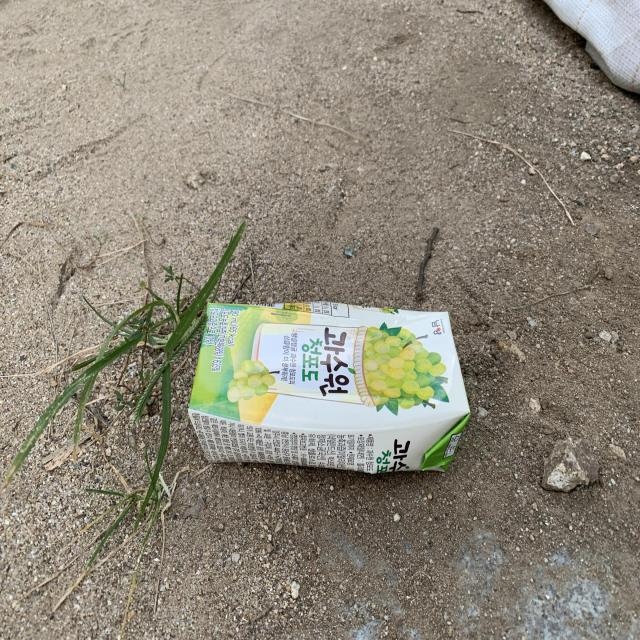paperpack: (189, 301, 471, 474)
